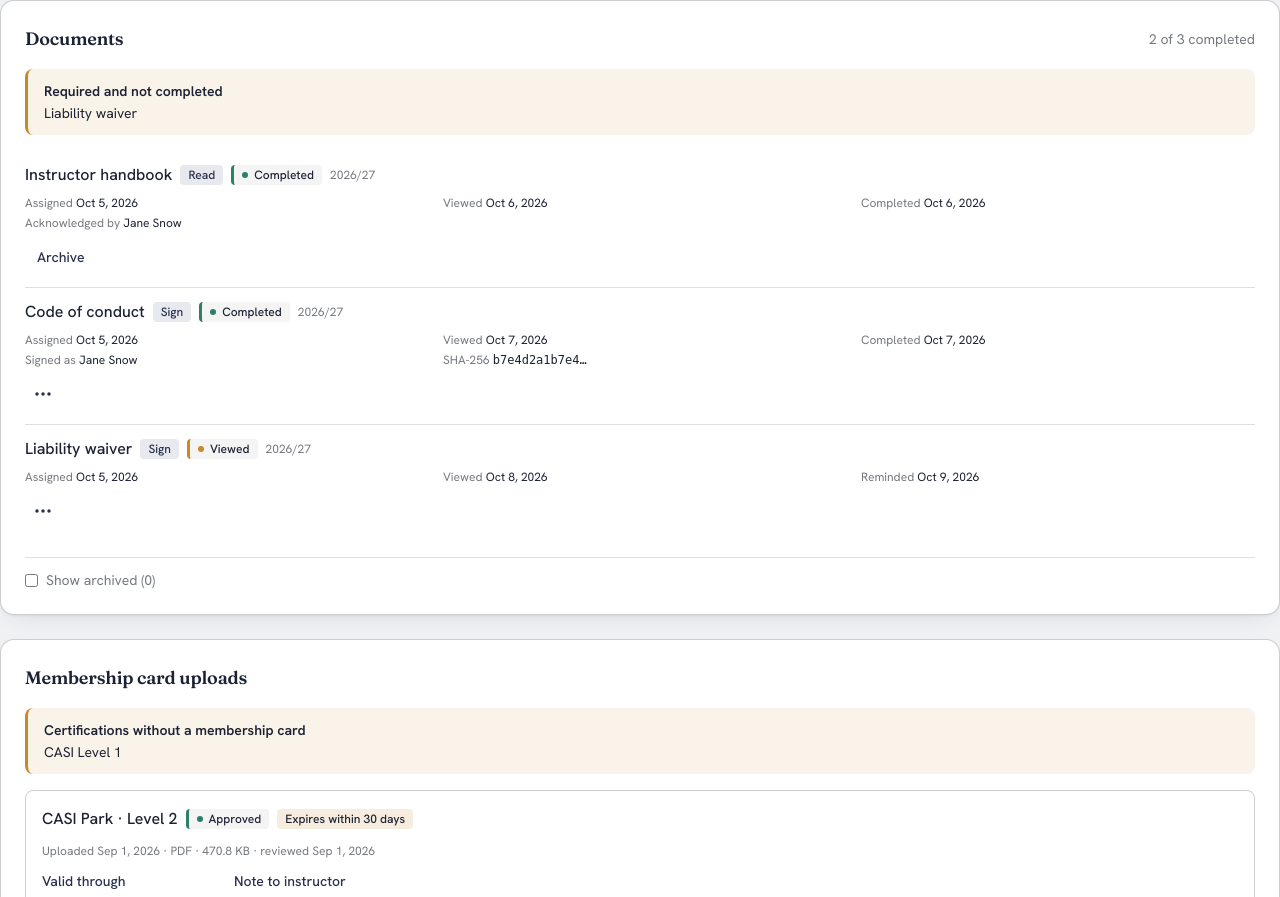
Test case: InstructorDocumentsSection — documents › reports a failed download
The width and height of the screenshot is (1280, 897).
Click the button named "More actions for Code of conduct" at [43, 394], box [25,376,61,412]
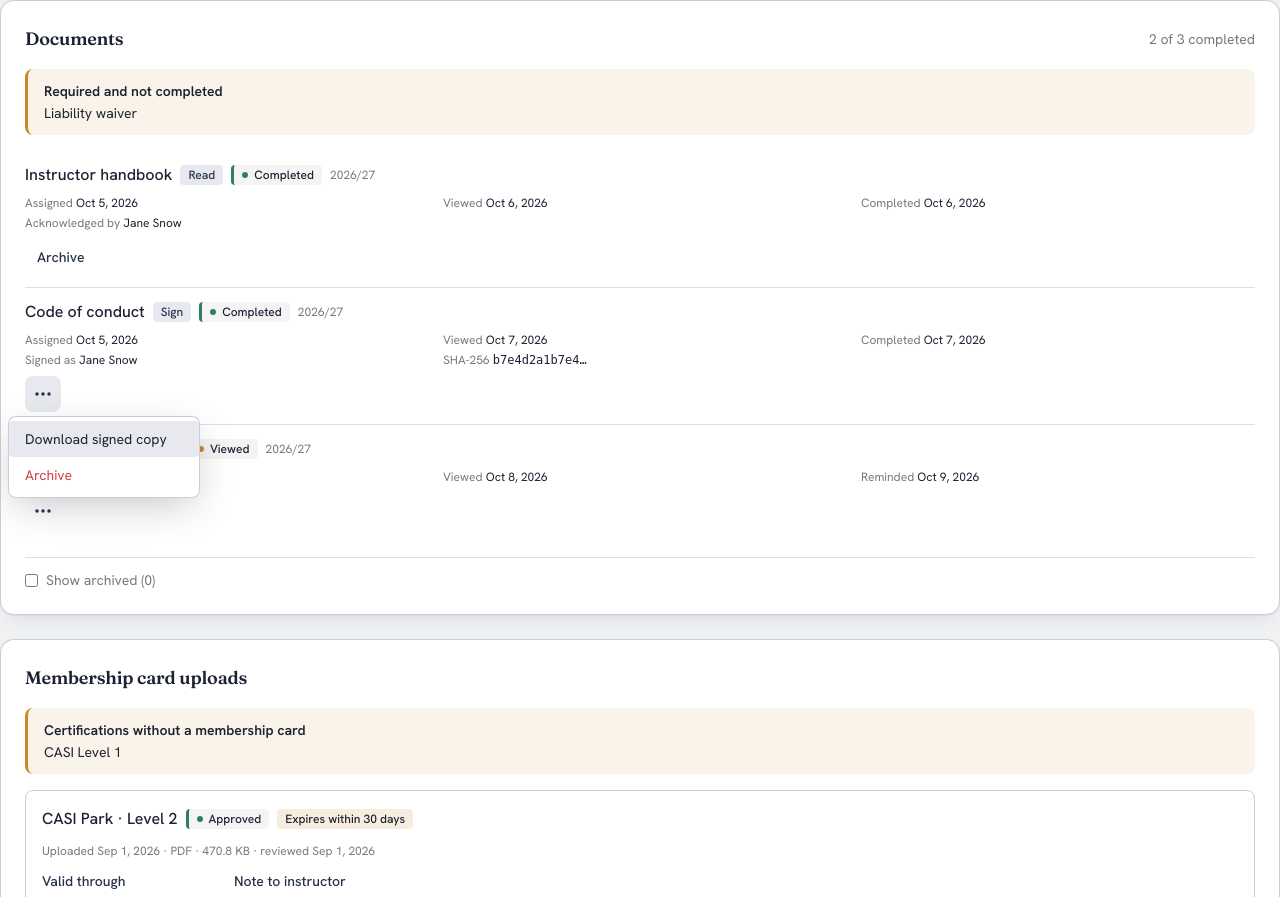
Click the menu item "Download signed copy" at [104, 439], box [9,421,199,457]
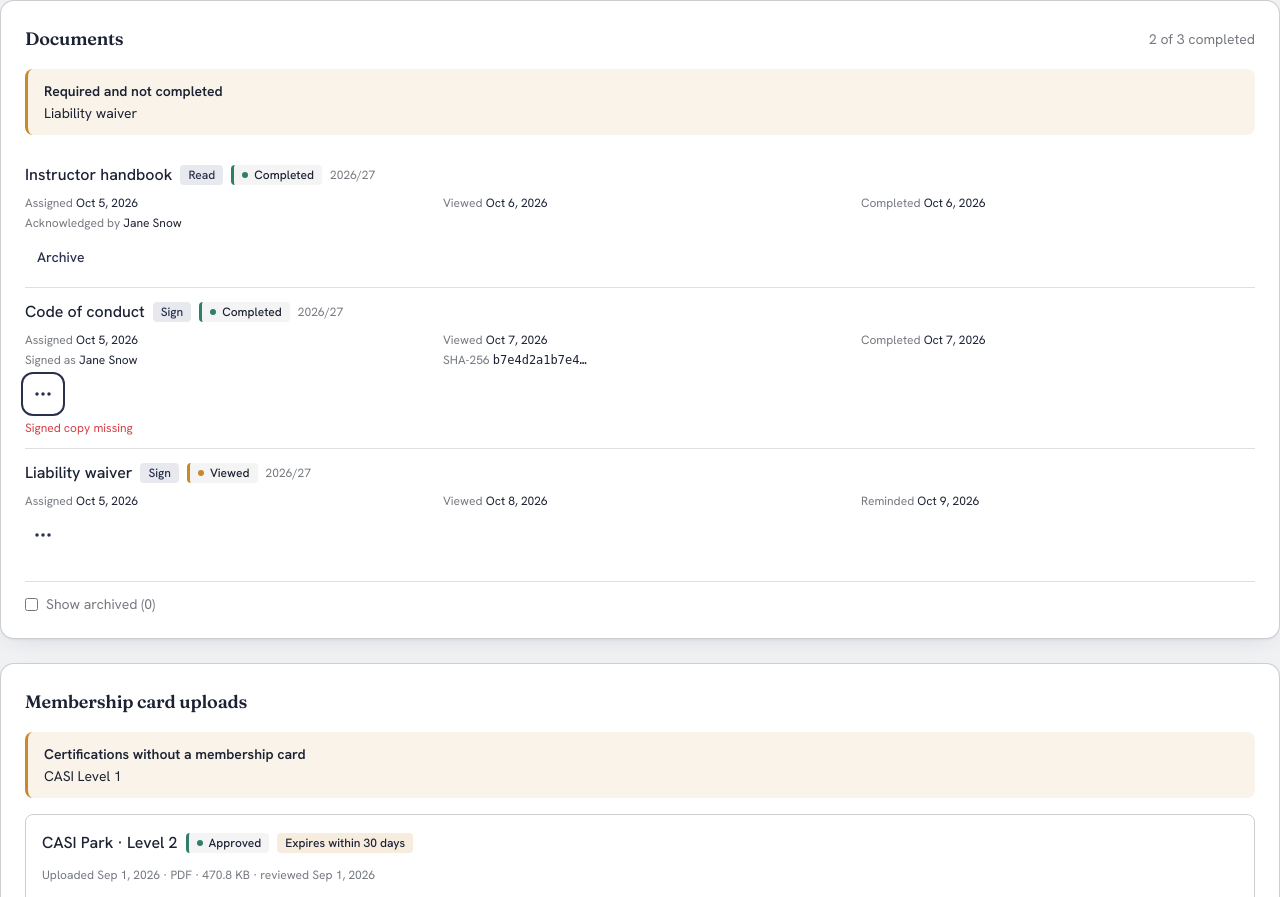
Expected: the message "Signed copy missing" is shown, [25,420,133,436]
